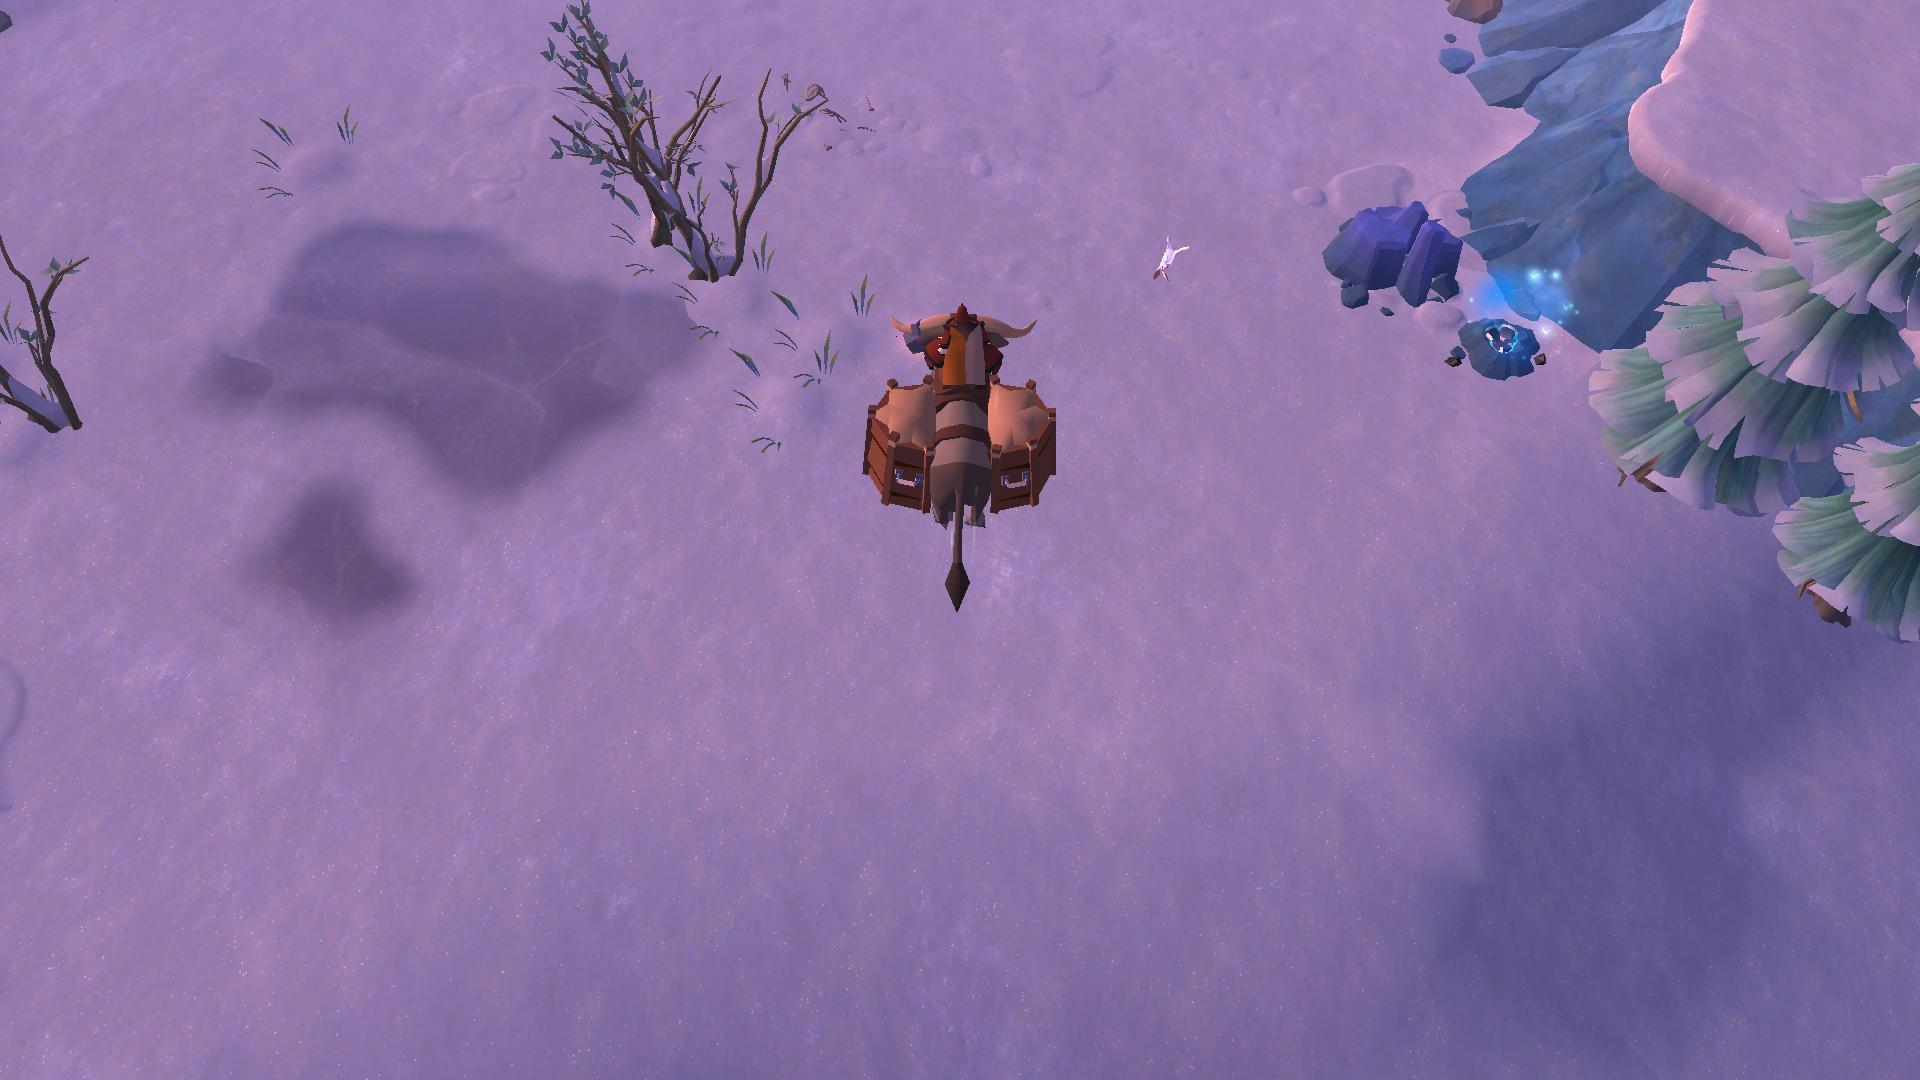rock_t4: (1324, 182, 1470, 313)
